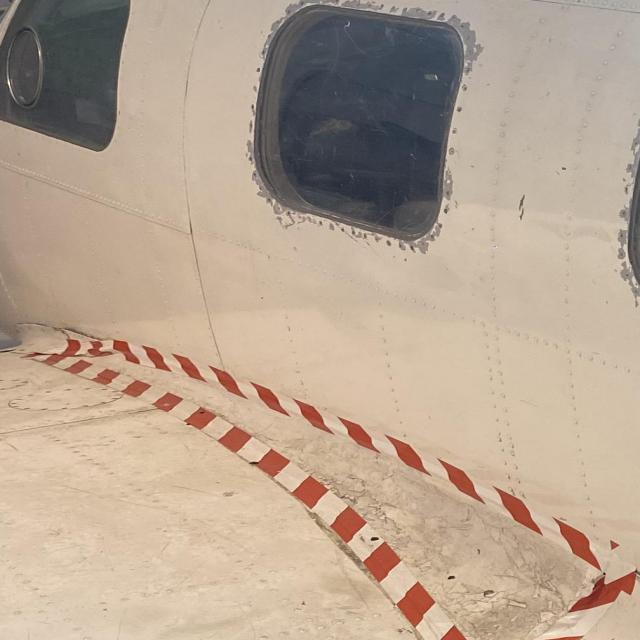Crack: (50, 326, 96, 340), (10, 321, 57, 334)
Paint-off: (377, 487, 592, 640), (439, 14, 479, 60), (437, 161, 457, 205), (405, 231, 439, 254), (629, 91, 640, 152), (290, 0, 329, 8)
